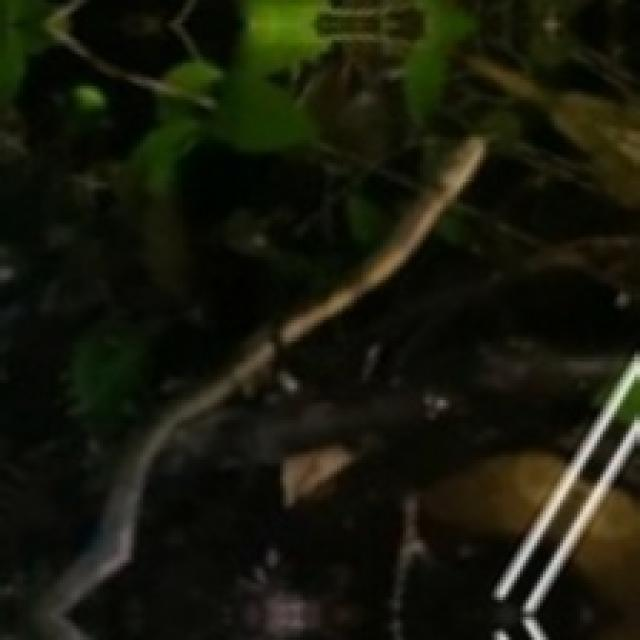king cobra: (34, 137, 486, 637)
